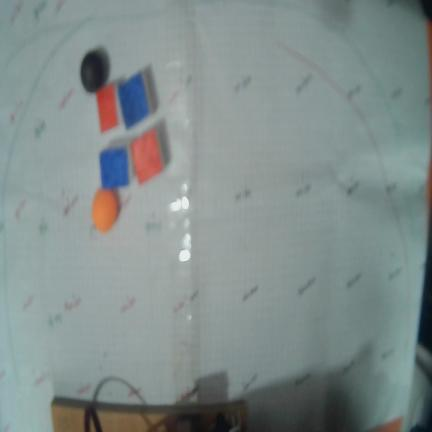circle_blue: (100, 147, 129, 188), (81, 50, 107, 92)
circle_orange: (92, 189, 118, 232)
rectangle_blue: (419, 222, 432, 347)
rectangle_orange: (96, 85, 118, 131)
square_blue: (118, 72, 150, 128)
square_orange: (131, 129, 163, 183)
